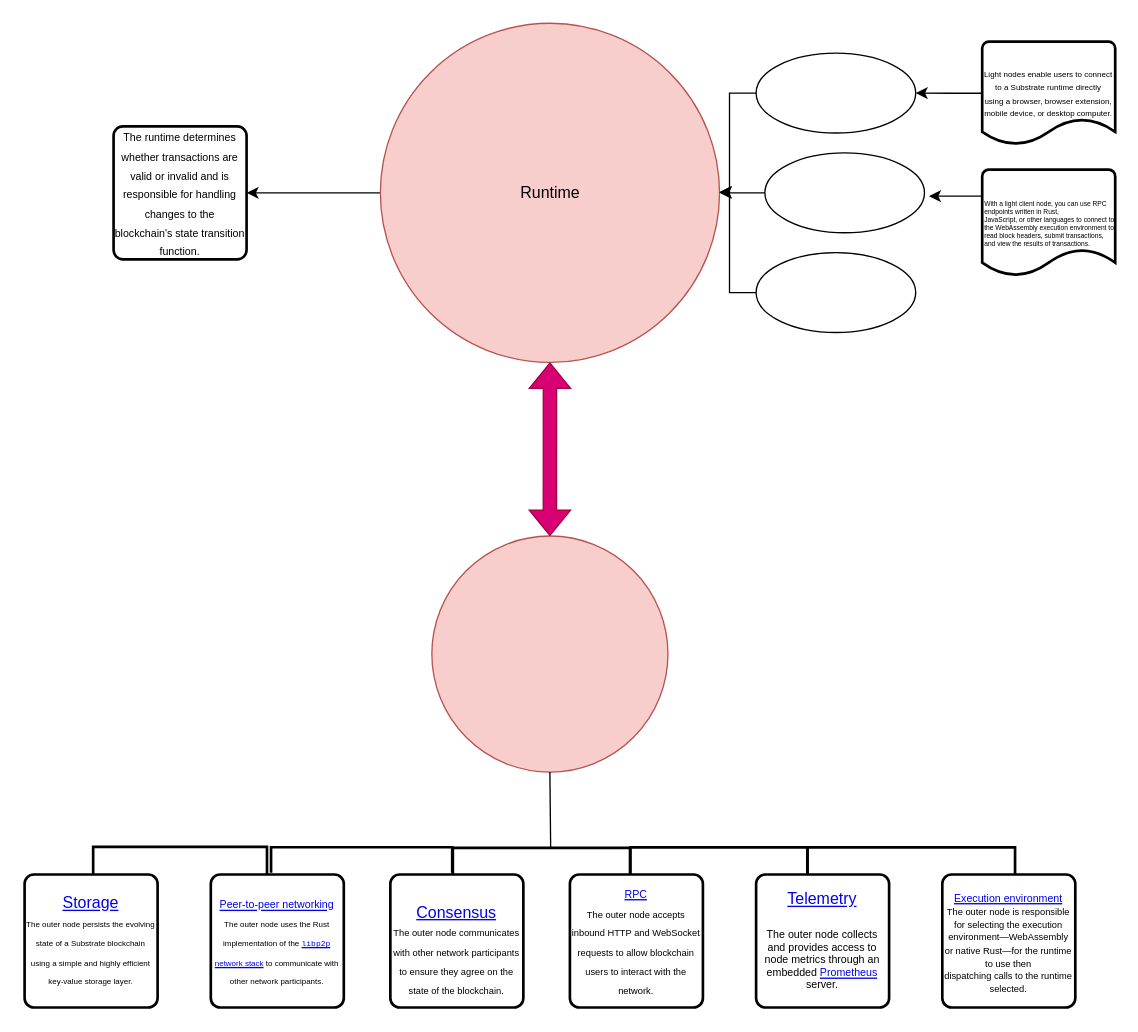
Image size: 1138x1032. Some labels were removed from this diagram. The shapes that lost their labels are listed below. From the top down, each one's box as (x1, y1, x2, y2) in pixels, then its label:
(755, 52, 916, 133): Light Client
(764, 152, 924, 233): RPC Endpoint
(755, 251, 916, 332): Browser Extention
(431, 535, 668, 772): Outer Node
